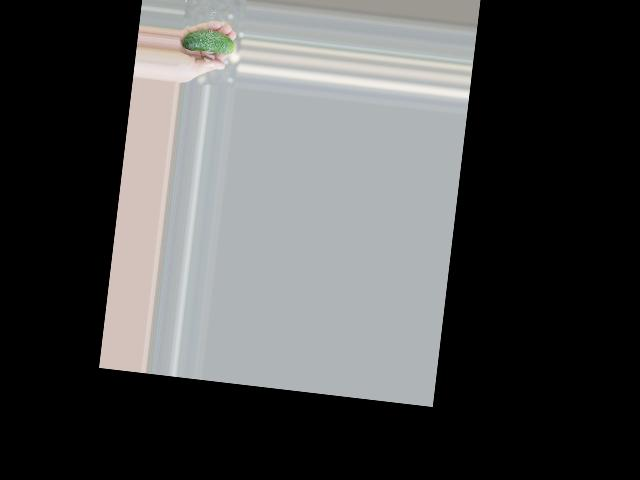cucumber: (181, 26, 235, 55)
